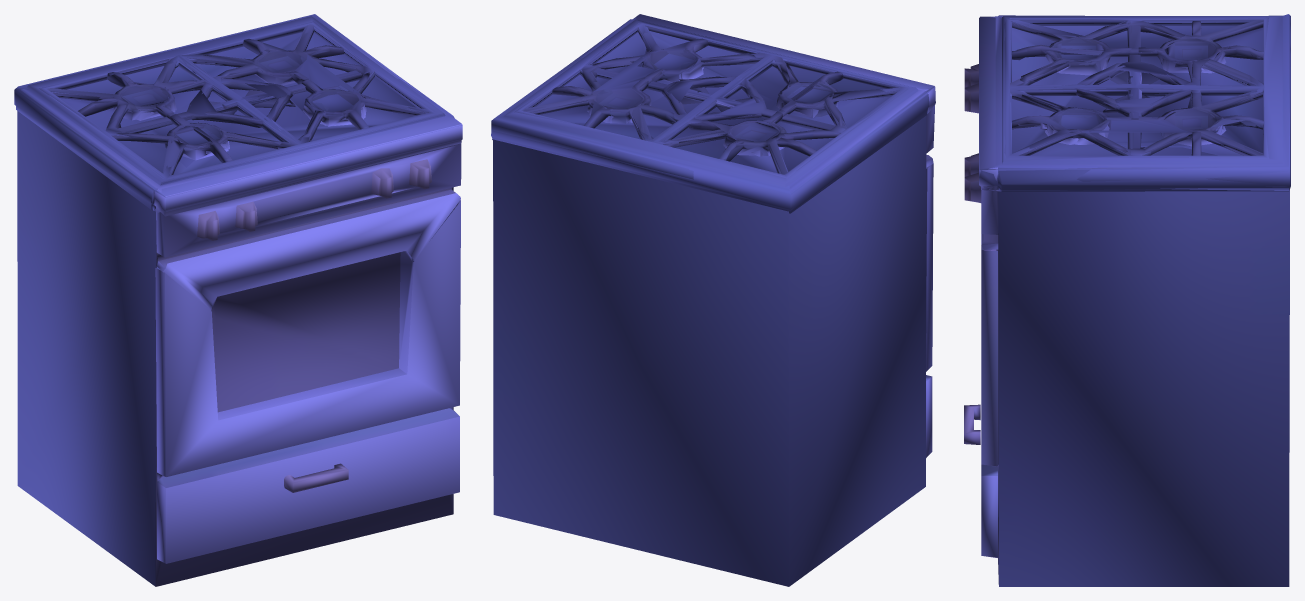
File: model.progressive.glb
3 views of the same model, side by side, from view 1: azimuth 30°, elevation 25°; view 2: azimuth 150°, elevation 25°; view 3: azimuth 270°, elevation 25° (orthographic). The views are drawn at different scales.
Visible parts, largest first — view 1: mesh_input; view 2: mesh_input; view 3: mesh_input.
Boxes of the visible parts, x1,y1,x2,y2 form: mesh_input: [14, 14, 462, 586]; mesh_input: [491, 14, 935, 586]; mesh_input: [964, 14, 1290, 586].
Bounding box in the file's own units: 1.48 × 1.9 × 1.31.
Materials: 1 (1 with a texture image).
